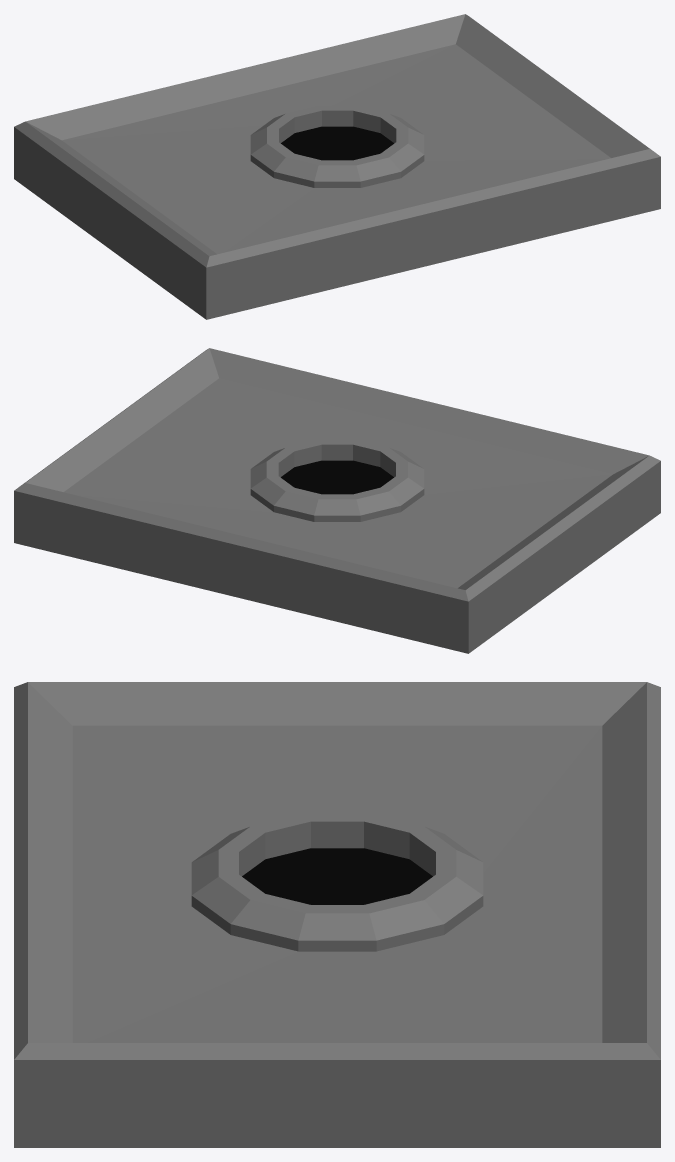
Rendered from SingleSpikeStoneTrap_5.fbx.
3 renders of one model, top to bottom at view 1: azimuth 30°, elevation 25°; view 2: azimuth 150°, elevation 25°; view 3: azimuth 270°, elevation 25°, orthographic. The views are drawn at different scales.
Parts seen in each view (by area): view 1: SingleSpikeStoneTrap_5; view 2: SingleSpikeStoneTrap_5; view 3: SingleSpikeStoneTrap_5.
Part boxes in pixels (x1,y1,x2,y2): SingleSpikeStoneTrap_5: (14,14,660,319); SingleSpikeStoneTrap_5: (14,348,660,653); SingleSpikeStoneTrap_5: (14,682,660,1147).
Size of the model in its own units: 30 by 3.71 by 22.
